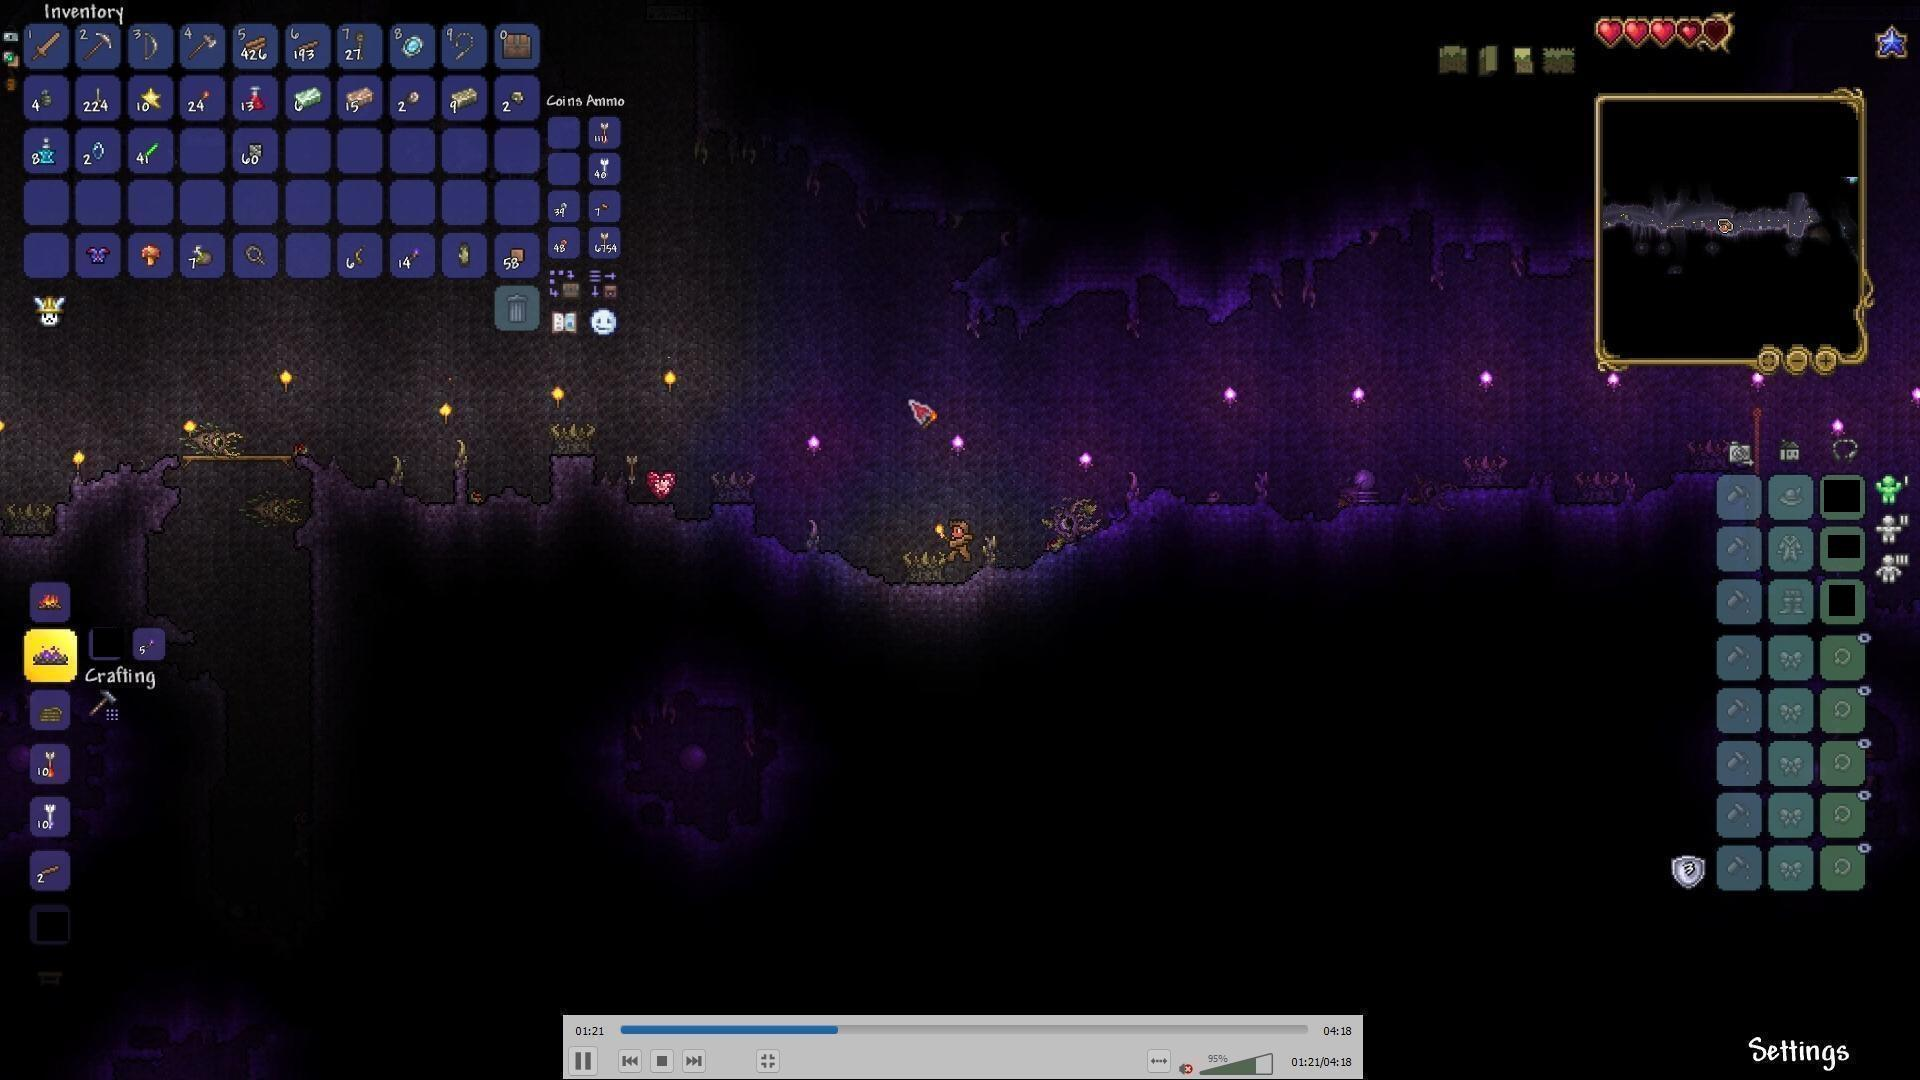breastplate: (82, 241, 113, 268)
wood: (240, 32, 269, 59)
